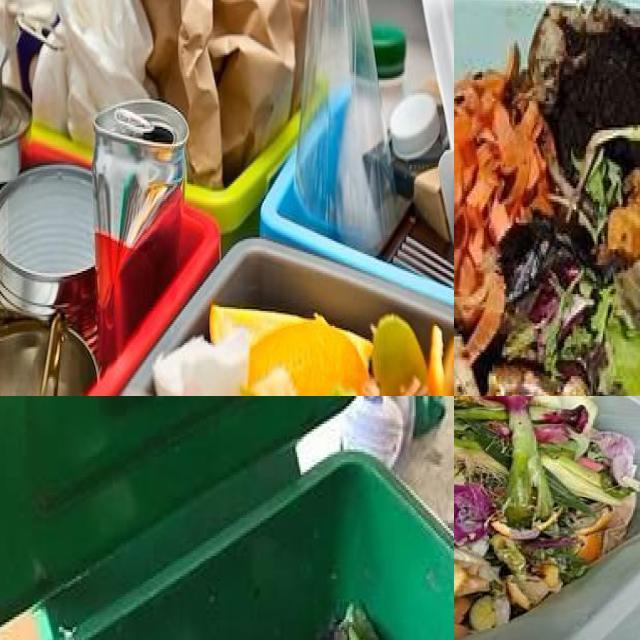Garbage: (454, 0, 640, 396), (454, 396, 640, 640)
Plastic: (391, 95, 439, 160)
Plastic_bottle: (295, 0, 398, 251), (371, 21, 406, 126)
can: (92, 100, 189, 365)
tin_box: (0, 164, 96, 351), (0, 19, 60, 187), (0, 315, 97, 396)
